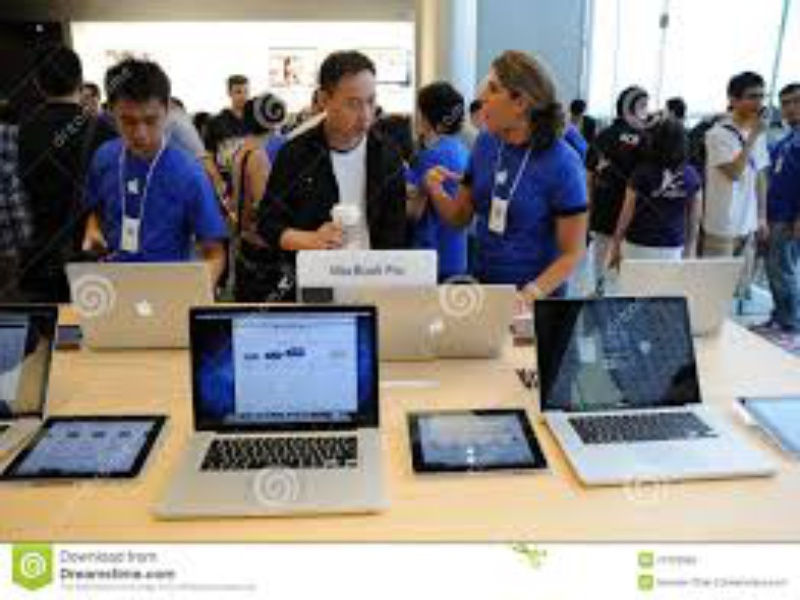TsisyArotava: (304, 48, 395, 146)
